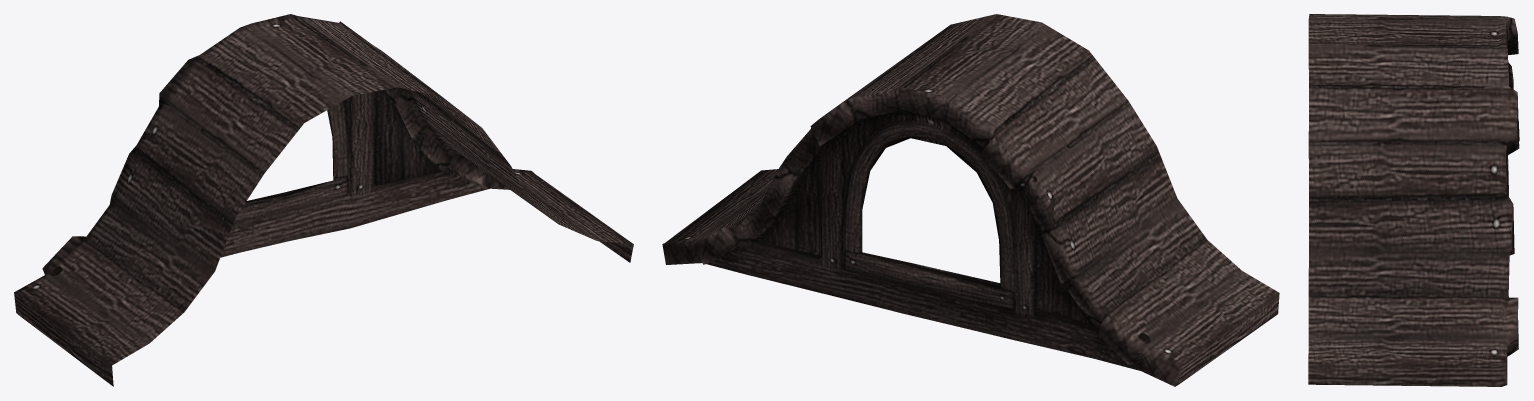
Rendered from Roof Window.FBX.
The picture shows the model from 3 angles, left to right: view 1: azimuth 30°, elevation 25°; view 2: azimuth 150°, elevation 25°; view 3: azimuth 270°, elevation 25°; orthographic projection.
Visible parts, largest first — view 1: Roof Window Optimized; view 2: Roof Window Optimized; view 3: Roof Window Optimized.
Part boxes in pixels (x1,y1,x2,y2): Roof Window Optimized: (14, 14, 633, 386); Roof Window Optimized: (662, 14, 1279, 386); Roof Window Optimized: (1308, 14, 1519, 386).
Bounding box in the file's own units: 219 × 78.26 × 95.35.
1 material, 1 textured.
